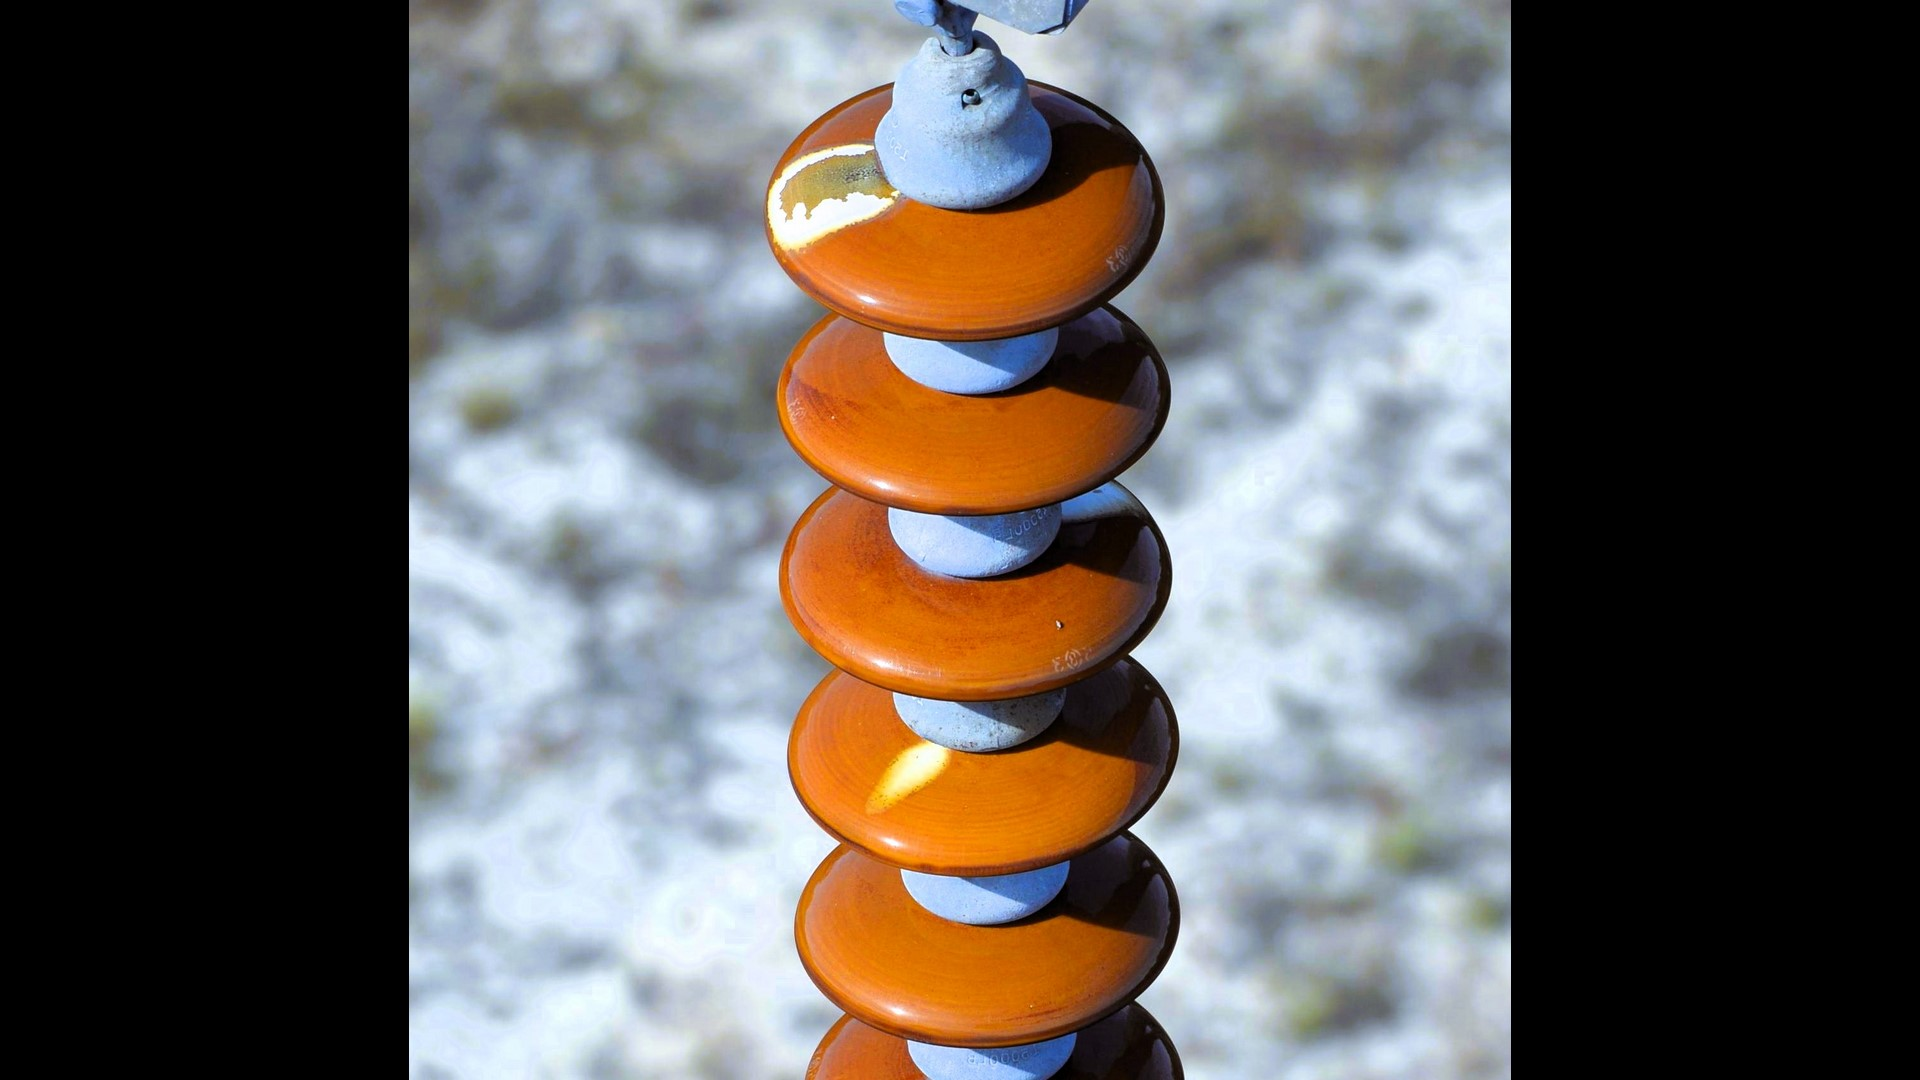Insulator flashover: (752, 61, 1178, 340), (774, 665, 1188, 884)
